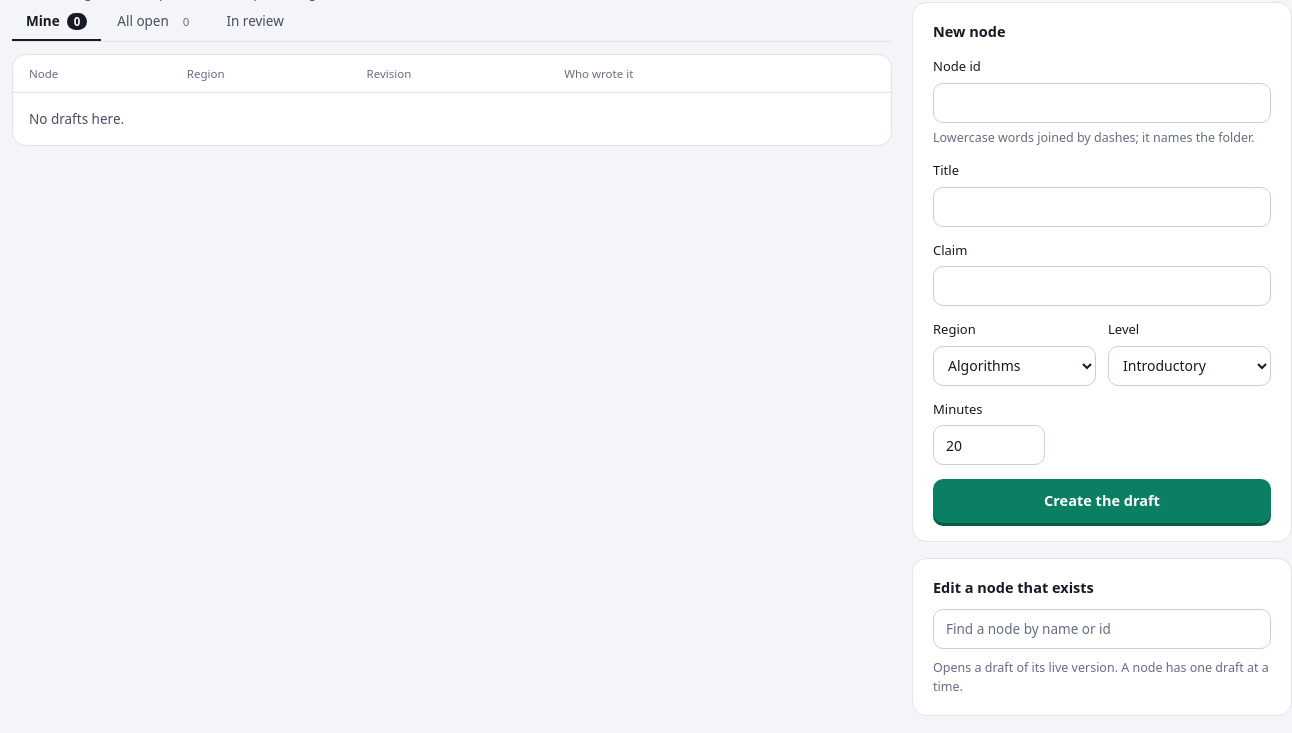
Scenario: DraftsPage › says in the API's words when a node already has a draft
Step 1. Type "tpm" into the search field labelled "Find a node by name or id" → (1102, 629), box [933, 609, 1271, 649]
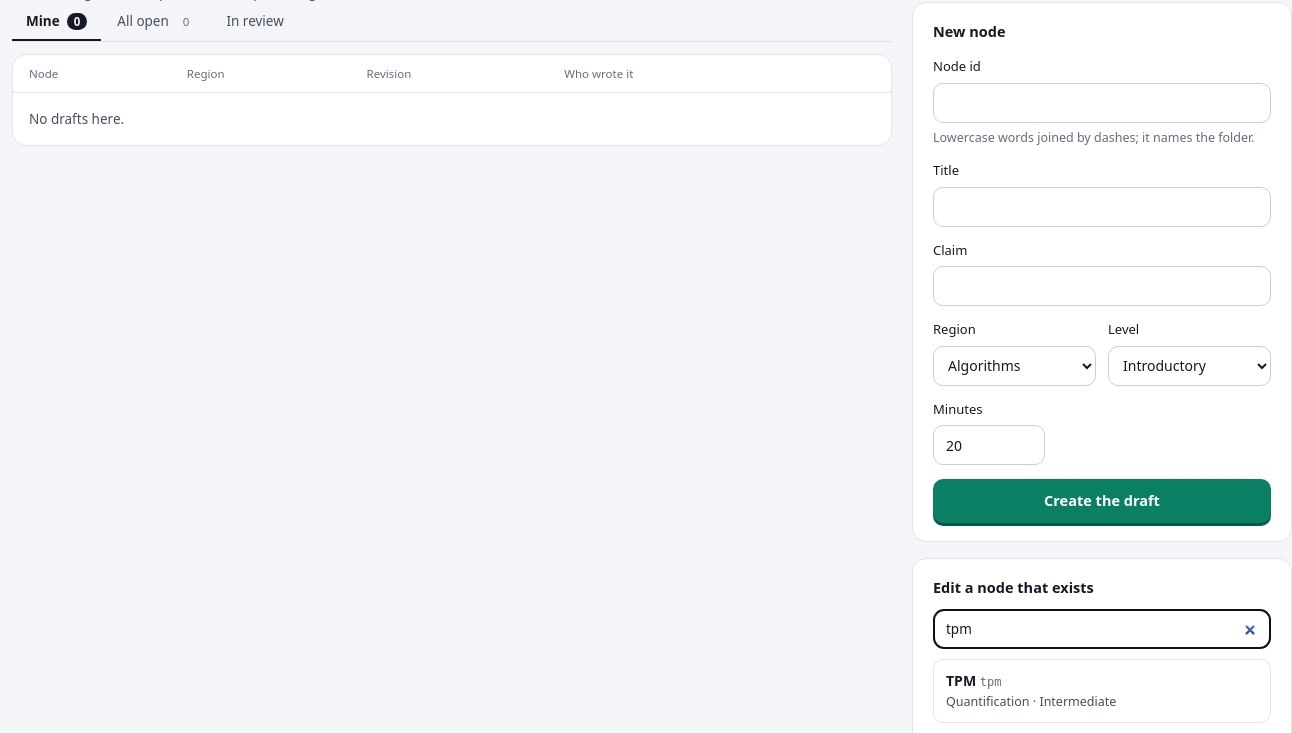
Step 2. Click the button "TPM tpm Quantification · Intermediate" → click(1102, 691), box [933, 659, 1271, 723]
(page scrolled)
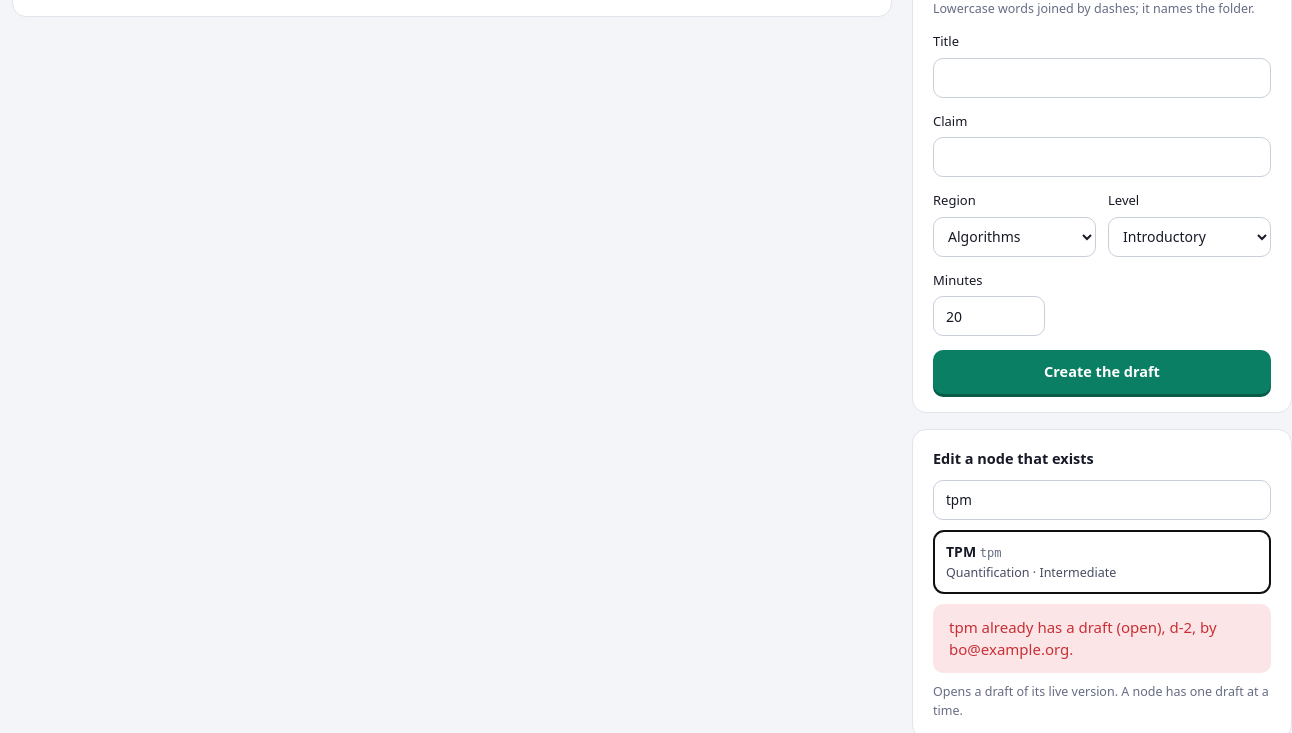
Expected: the text "tpm already has a draft (open), d-2, by bo@example.org." is shown, [933, 604, 1271, 673]
